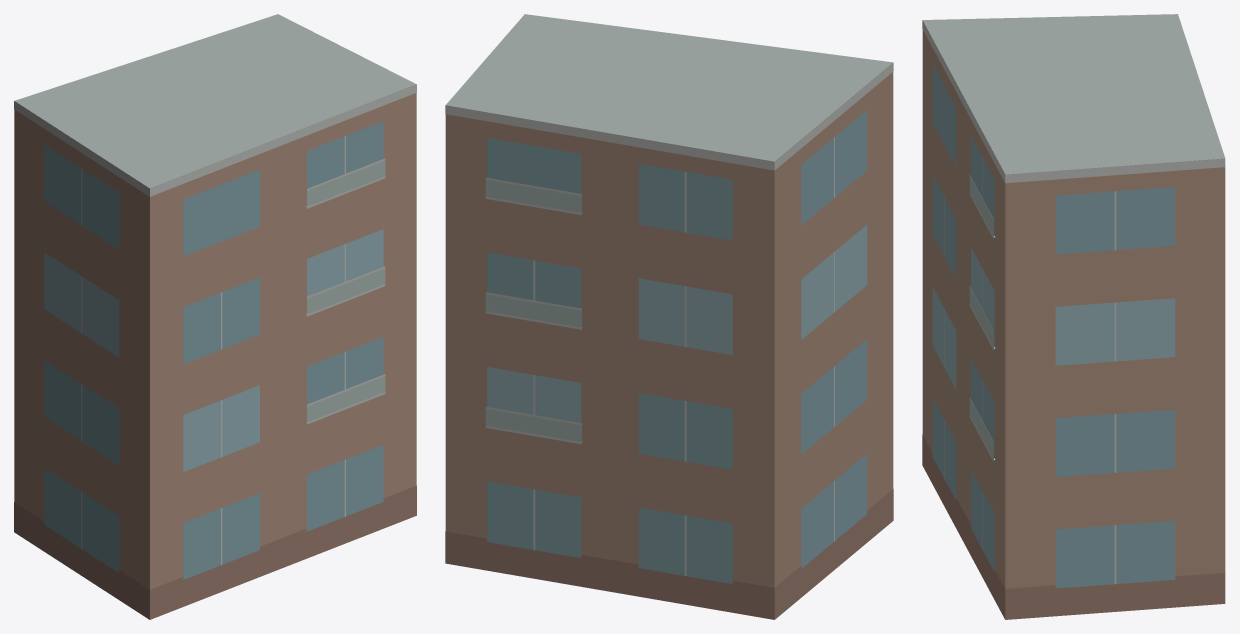
Rendered from survey-upis-32499220.glb.
3 renders of one model, left to right at view 1: azimuth 30°, elevation 25°; view 2: azimuth 150°, elevation 25°; view 3: azimuth 270°, elevation 25°, orthographic. The views are drawn at different scales.
Visible parts, largest first — view 1: survey-upis-32499220.tmp; view 2: survey-upis-32499220.tmp; view 3: survey-upis-32499220.tmp.
Boxes of the visible parts, bbox=[...] form: survey-upis-32499220.tmp: bbox=[14, 14, 416, 619]; survey-upis-32499220.tmp: bbox=[445, 14, 893, 619]; survey-upis-32499220.tmp: bbox=[922, 14, 1225, 619].
Size of the model in its own units: 9.68 by 12.5 by 7.72.
